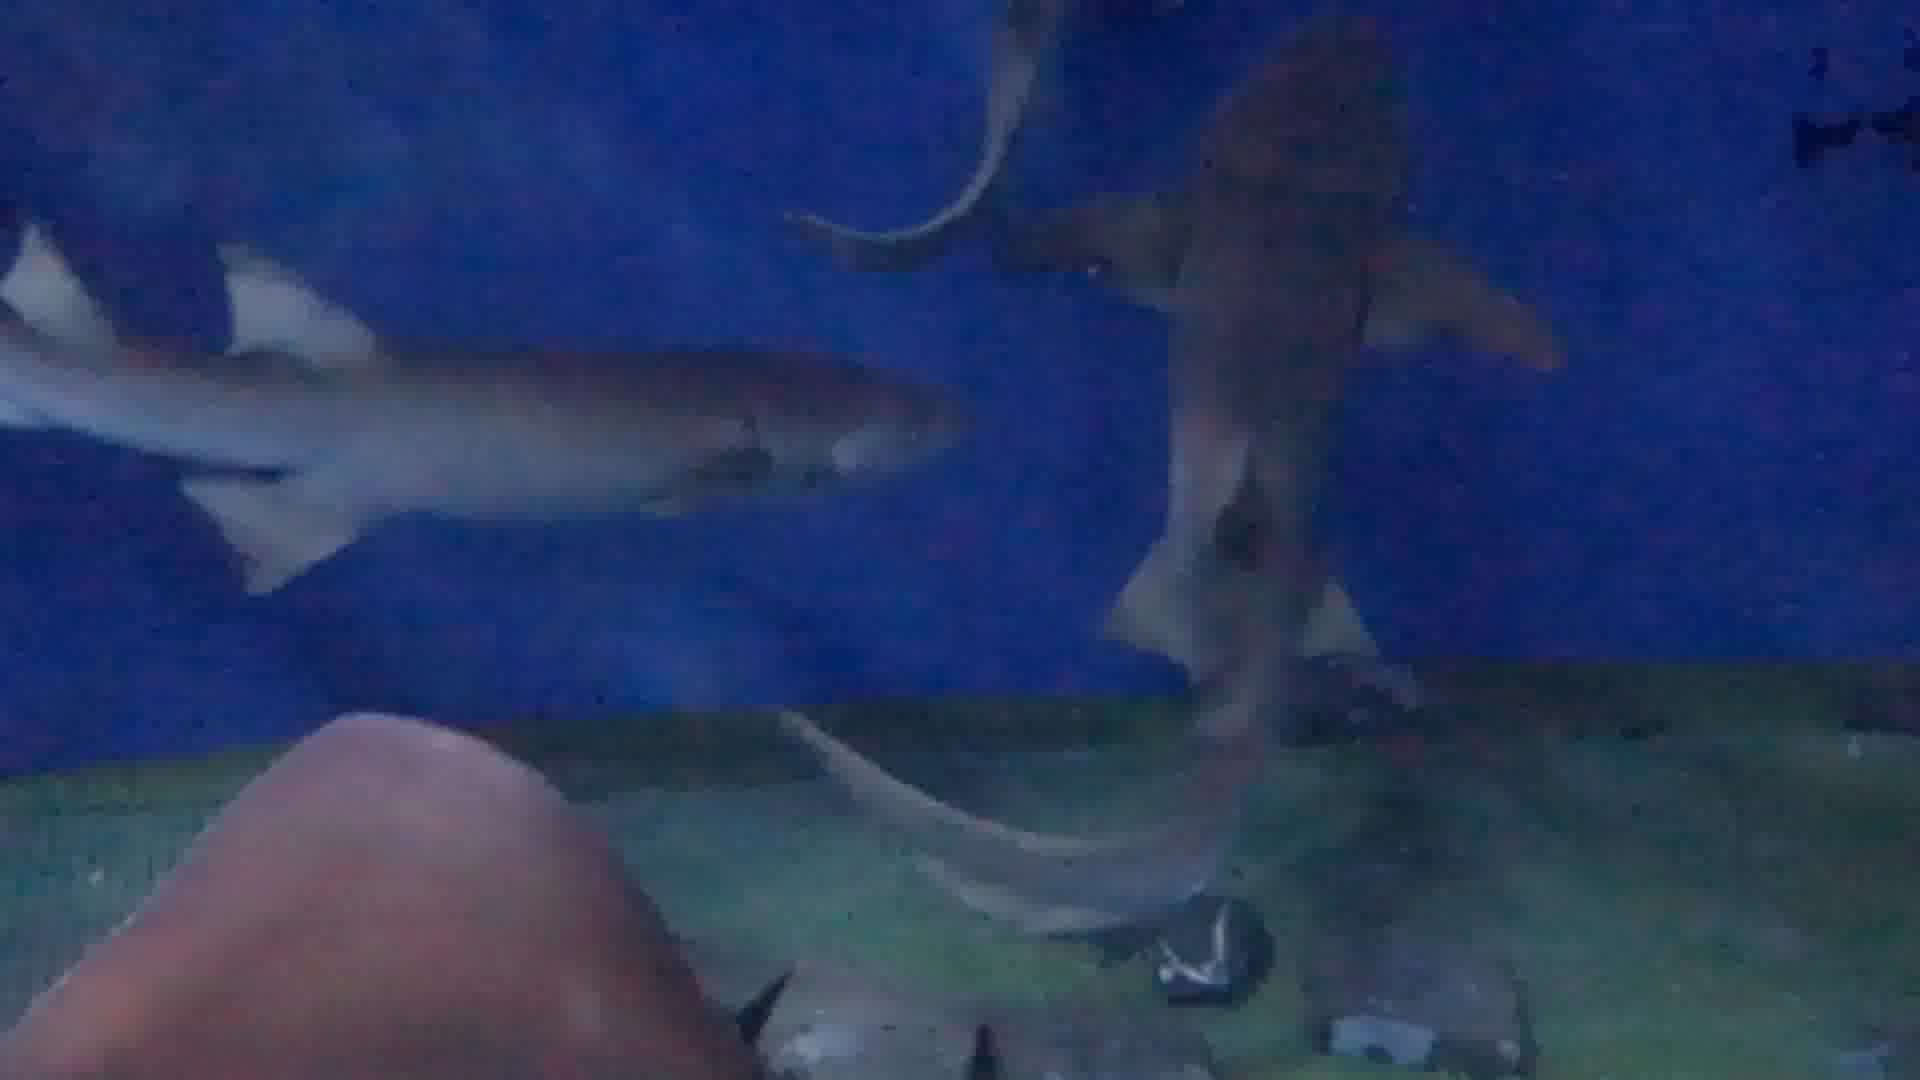Nebrius ferrugineus: (16, 266, 981, 545), (1083, 1, 1433, 724)
